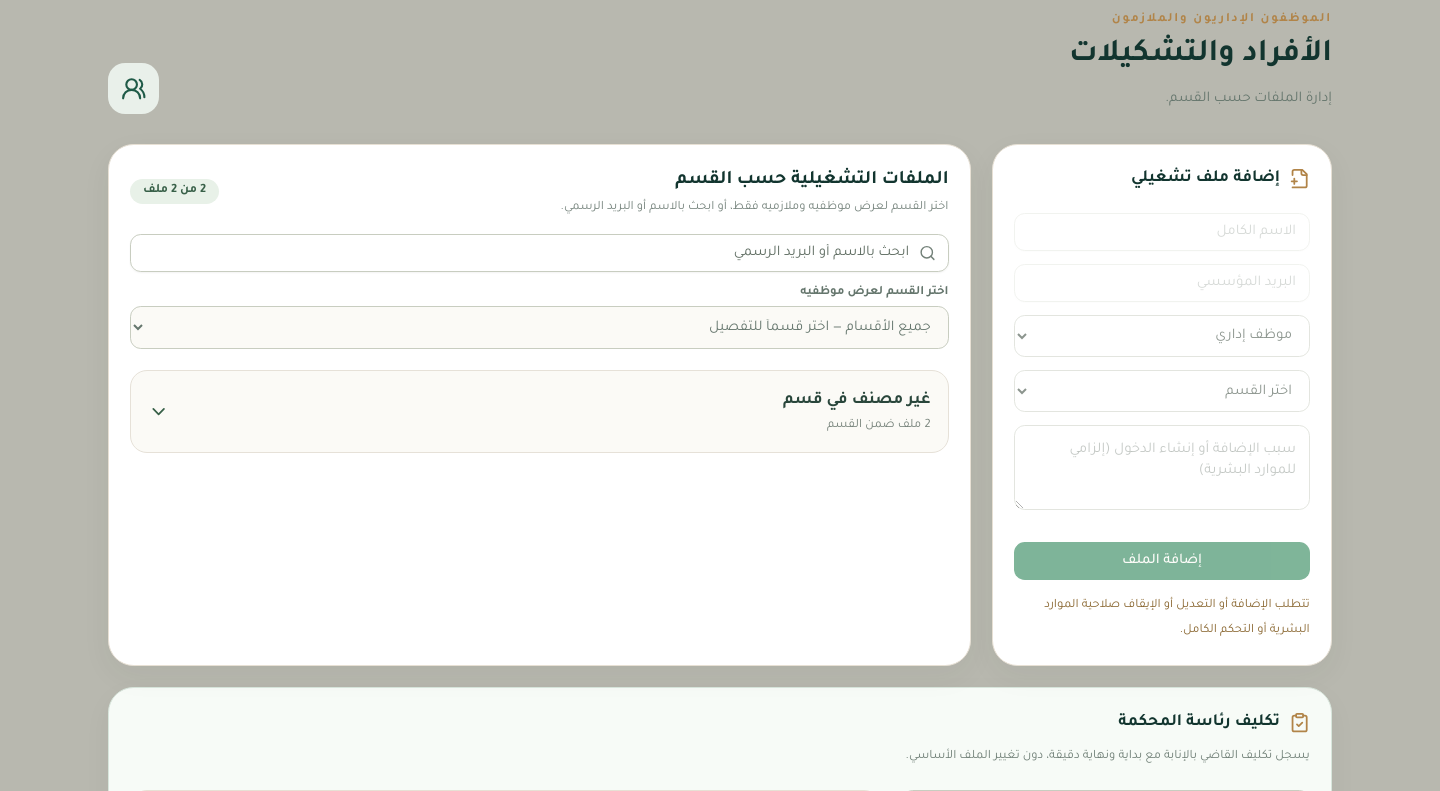
Test: إدارة الملفات التشغيلية › يحجب الإضافة والتعديل والإيقاف عن صلاحية الموظف
The image size is (1440, 791).
Step 1. Click the button "غير مصنف في قسم 2 ملف ضمن القسم" → (857, 400), box [131,371,948,452]
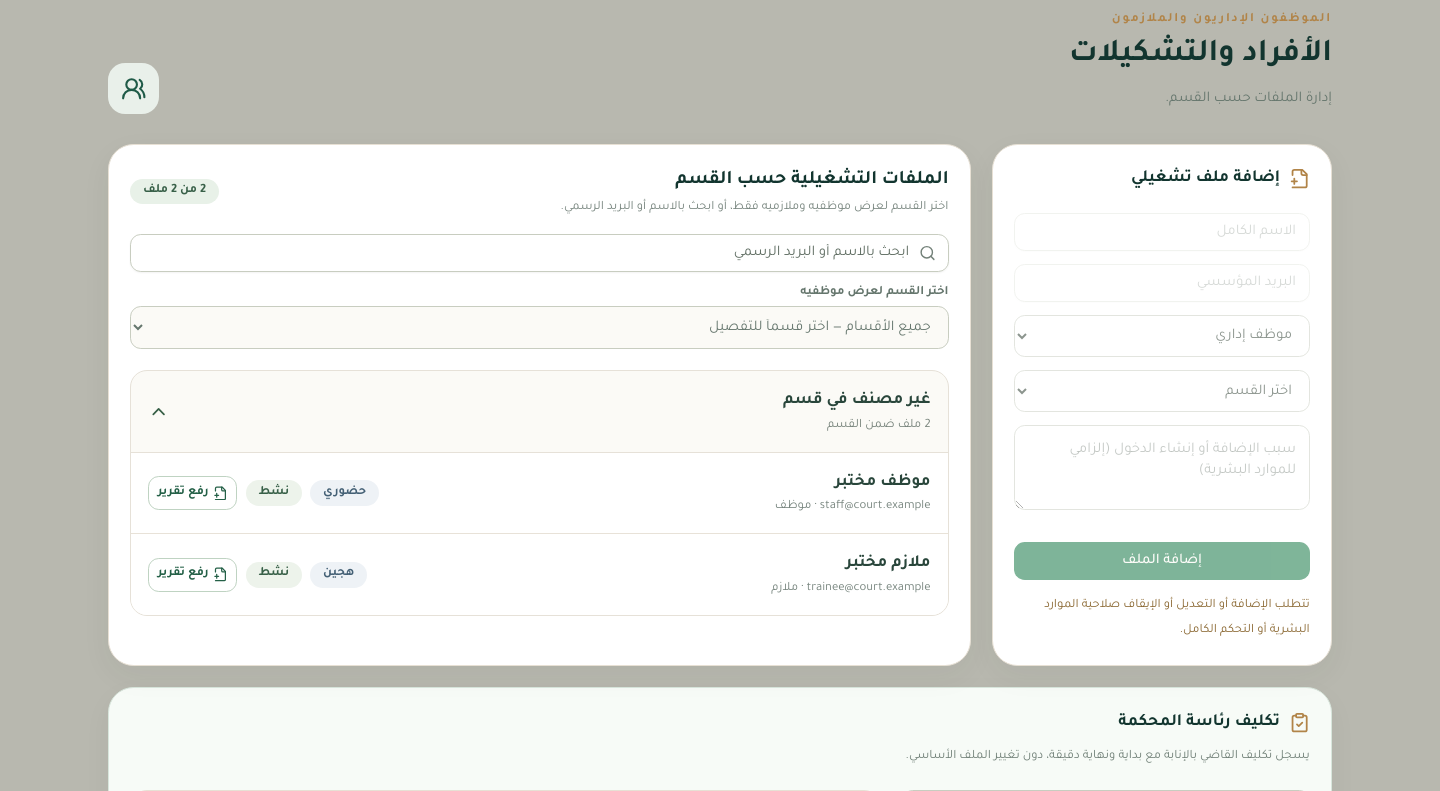
Expected: the text "موظف مختبر" is shown, [835,474,930,491]
